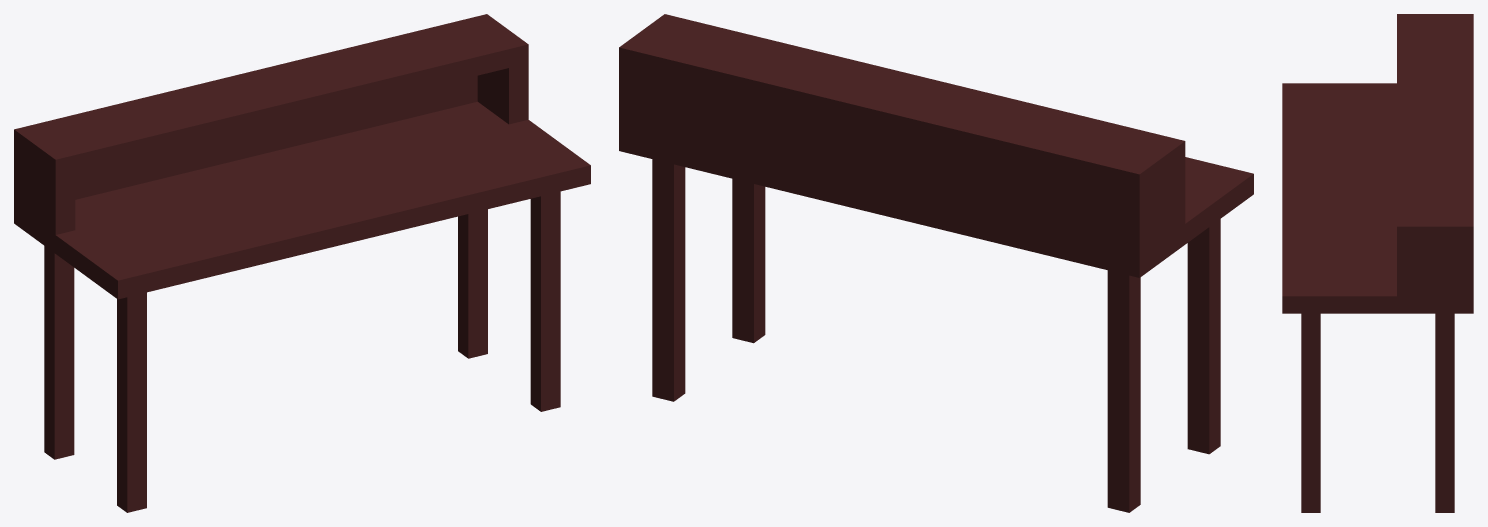
Rendered from biurko.FBX.
The picture shows the model from 3 angles, left to right: view 1: azimuth 30°, elevation 25°; view 2: azimuth 150°, elevation 25°; view 3: azimuth 270°, elevation 25°; orthographic projection. The views are drawn at different scales.
Parts seen in each view (by area): view 1: Box001; view 2: Box001; view 3: Box001.
Part boxes in pixels (x1=…): Box001: x1=14, y1=14, x2=590, y2=512; Box001: x1=619, y1=14, x2=1253, y2=512; Box001: x1=1282, y1=14, x2=1473, y2=512.
Bounding box in the file's own units: 131 × 85 × 50.
